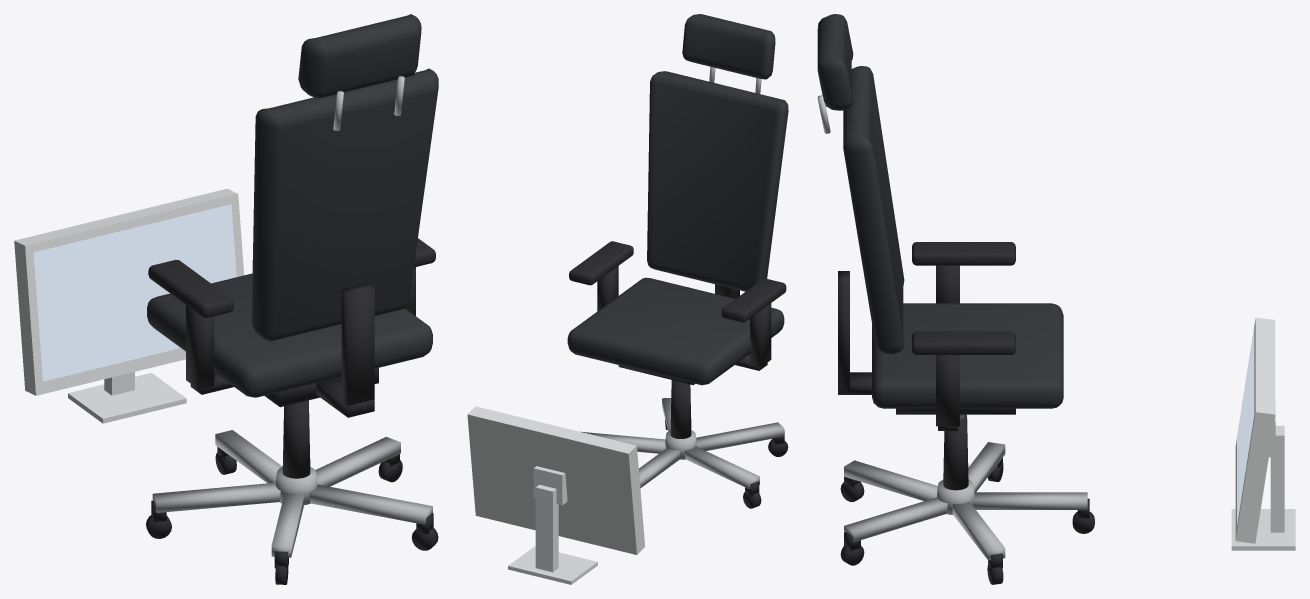
The model's file is workstation.glb.
3 renders of one model, left to right at view 1: azimuth 30°, elevation 25°; view 2: azimuth 150°, elevation 25°; view 3: azimuth 270°, elevation 25°, orthographic. The views are drawn at different scales.
Parts seen in each view (by area): view 1: Chair, MonitorScreen, MonitorBezel, MonitorFoot, MonitorNeck; view 2: Chair, MonitorBezel, MonitorNeck, MonitorFoot, MonitorMount; view 3: Chair, MonitorBezel, MonitorFoot, MonitorScreen, MonitorNeck.
Part boxes in pixels (bbox=[...]): Chair: bbox=[146, 14, 438, 584]; MonitorScreen: bbox=[33, 204, 236, 381]; MonitorBezel: bbox=[14, 188, 244, 395]; MonitorFoot: bbox=[68, 373, 186, 423]; MonitorNeck: bbox=[104, 372, 134, 395]; Chair: bbox=[567, 14, 788, 508]; MonitorBezel: bbox=[467, 406, 645, 554]; MonitorNeck: bbox=[535, 484, 558, 572]; MonitorFoot: bbox=[508, 546, 597, 584]; MonitorMount: bbox=[533, 466, 567, 505]; Chair: bbox=[817, 14, 1094, 584]; MonitorBezel: bbox=[1235, 317, 1275, 543]; MonitorFoot: bbox=[1231, 509, 1295, 550]; MonitorScreen: bbox=[1237, 328, 1254, 525]; MonitorNeck: bbox=[1270, 425, 1284, 532].
Bounding box in the file's own units: 0.6694 × 1.37 × 1.2.
